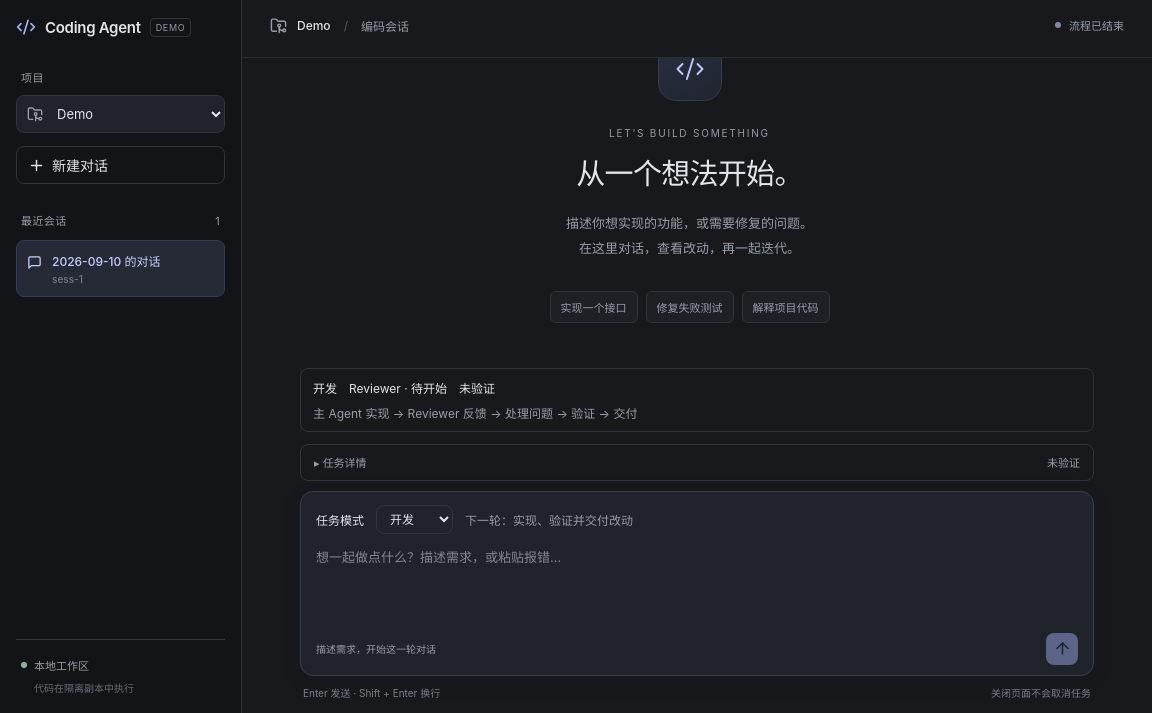
it: chat MVP › ignores a late artifact response after selecting a different artifact
(page scrolled)
Expected: the text "流程已结束" is shown, x1=1055 y1=17 x2=1124 y2=33
Click the button "▸ 任务详情 未验证" at x=343, y=463, box x1=301 y1=444 x2=1093 y2=480
(page scrolled)
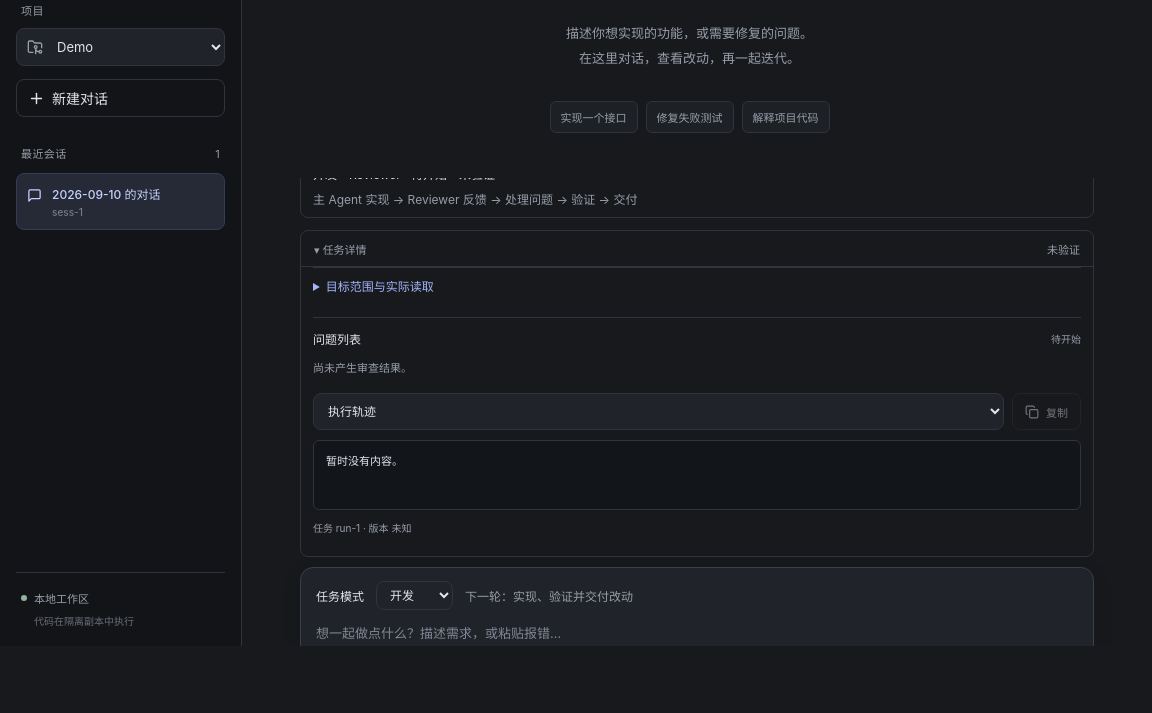
Select "patch · 改动" in the dropdown named "查看产物或轨迹" at x=658, y=412, box x1=313 y1=393 x2=1004 y2=430
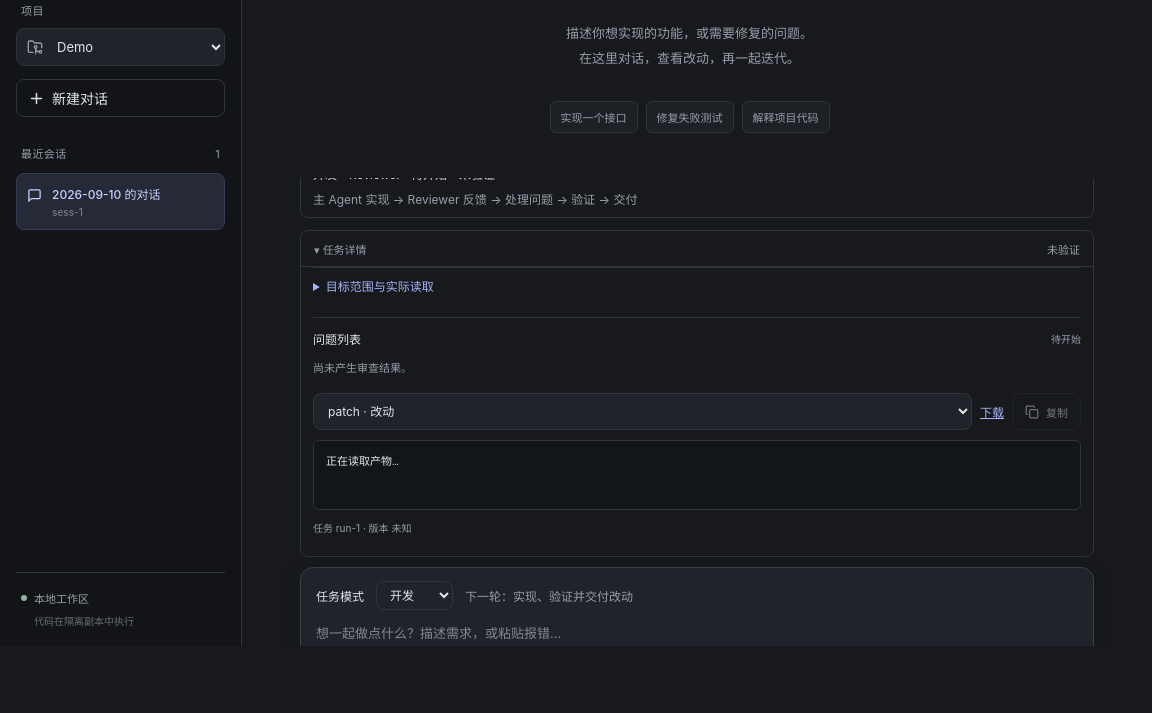
Select "log · 测试" in the dropdown named "查看产物或轨迹" at x=642, y=412, box x1=313 y1=393 x2=972 y2=430
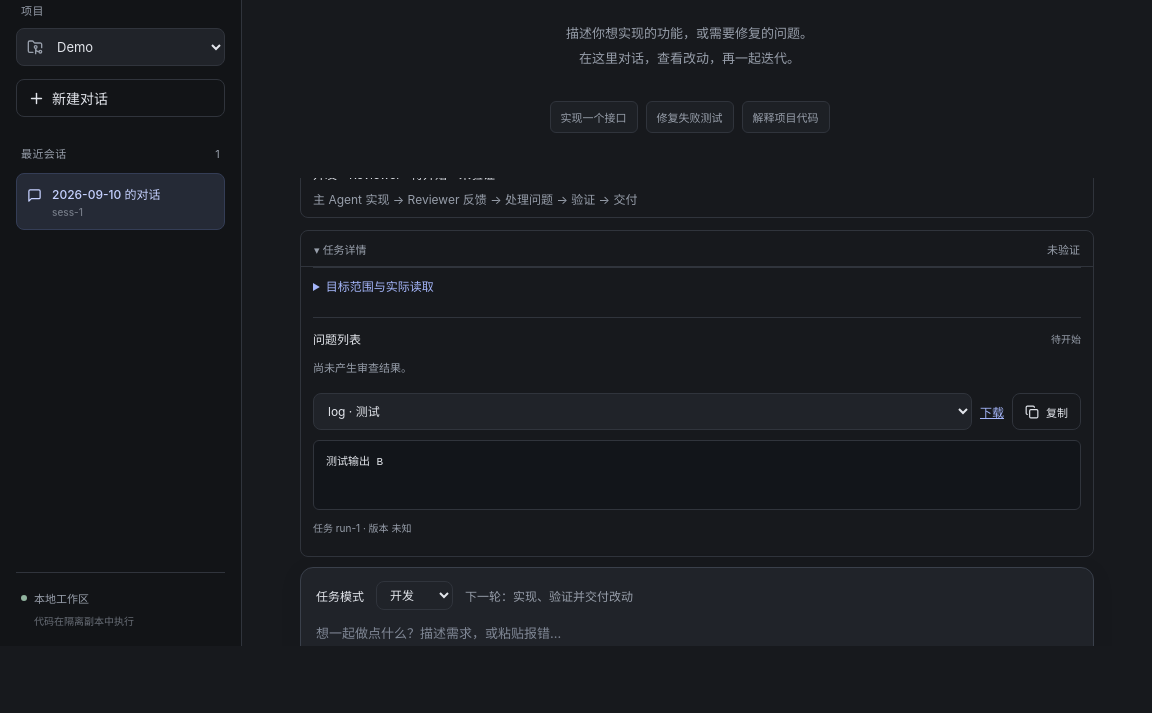
Expected: the text "测试输出 B" is shown, x1=313 y1=440 x2=1081 y2=510
